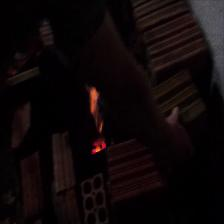fire: (86, 85, 106, 152)
